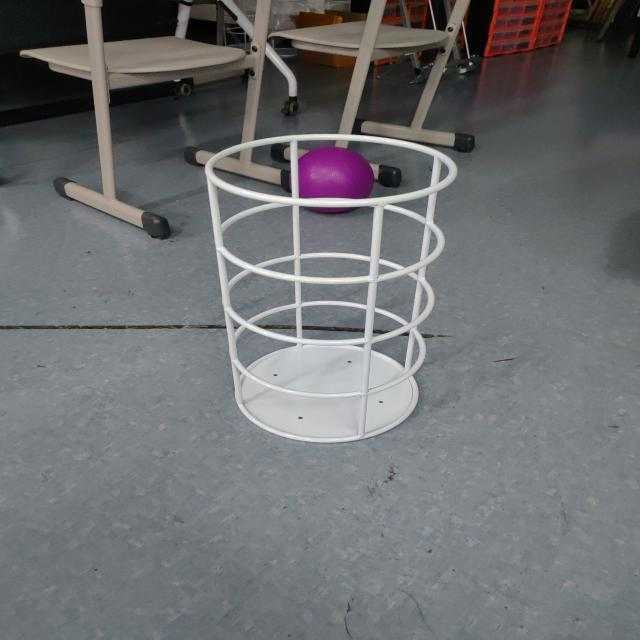P: (285, 148, 373, 214)
S: (201, 128, 471, 446)
